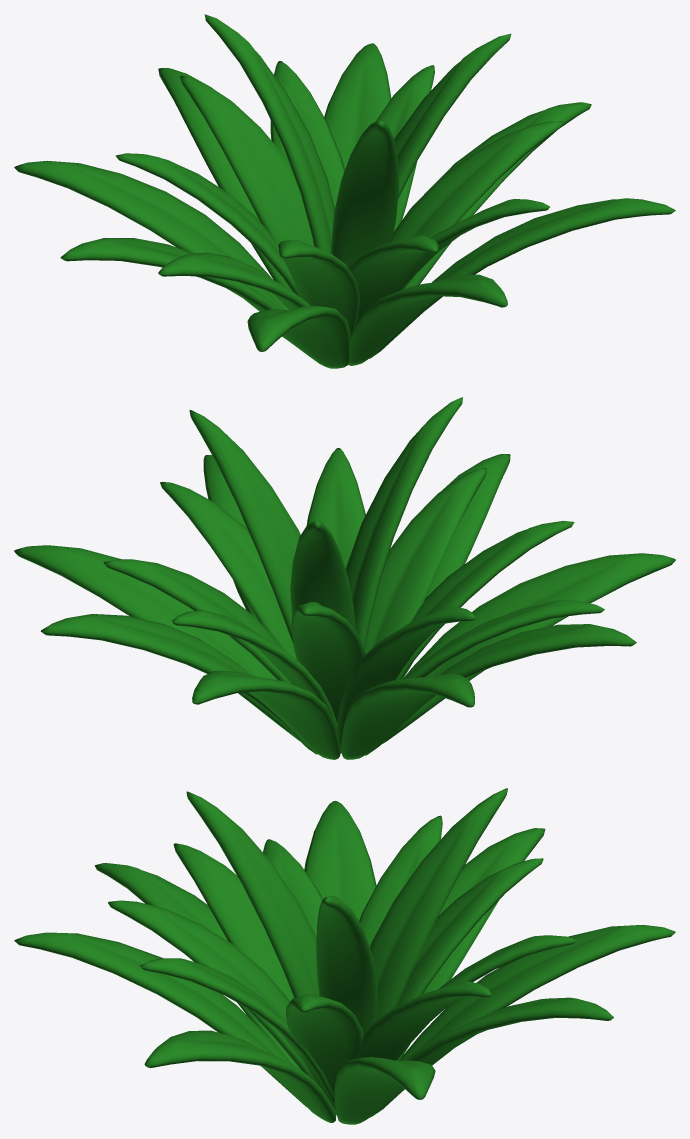
File: plant2.glb
3 views of the same model, one above another, from view 1: azimuth 30°, elevation 25°; view 2: azimuth 150°, elevation 25°; view 3: azimuth 270°, elevation 25° (orthographic).
Parts seen in each view (by area): view 1: Plane.003; view 2: Plane.003; view 3: Plane.003.
Part boxes in pixels (x1,y1,x2,y2): Plane.003: (14,14,675,368); Plane.003: (14,397,675,759); Plane.003: (14,788,675,1124).
Size of the model in its own units: 1.05 by 0.5327 by 1.05.
